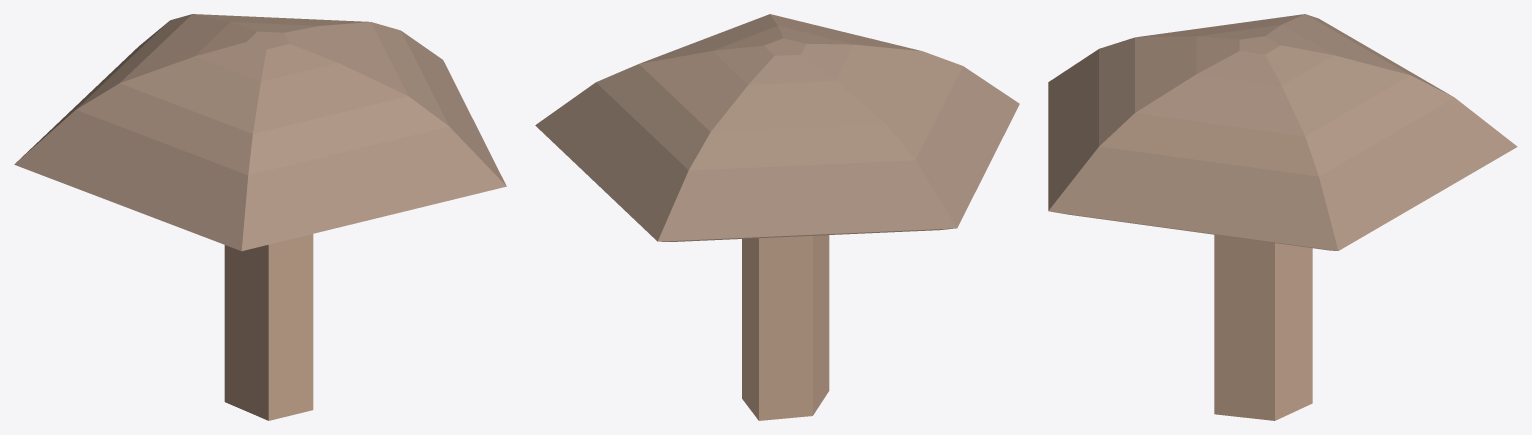
Rendered from Mushroom_05.fbx.
3 views of the same model, side by side, from view 1: azimuth 30°, elevation 25°; view 2: azimuth 150°, elevation 25°; view 3: azimuth 270°, elevation 25° (orthographic).
Visible parts, largest first — view 1: Mushroom_05; view 2: Mushroom_05; view 3: Mushroom_05.
Part boxes in pixels (<box>): Mushroom_05: <box>14,14,506,420</box>; Mushroom_05: <box>535,14,1019,420</box>; Mushroom_05: <box>1048,14,1517,420</box>.
Size of the model in its own units: 175 by 140 by 167.
